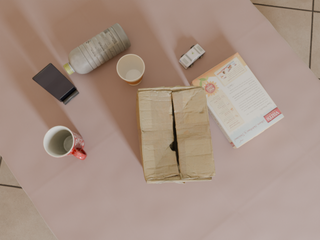bottle: (63, 23, 131, 75)
box: (191, 53, 284, 148), (136, 86, 215, 184)
cup: (43, 126, 87, 160), (117, 54, 145, 85)
phone: (32, 63, 77, 102)
toy_car: (179, 44, 205, 69)
